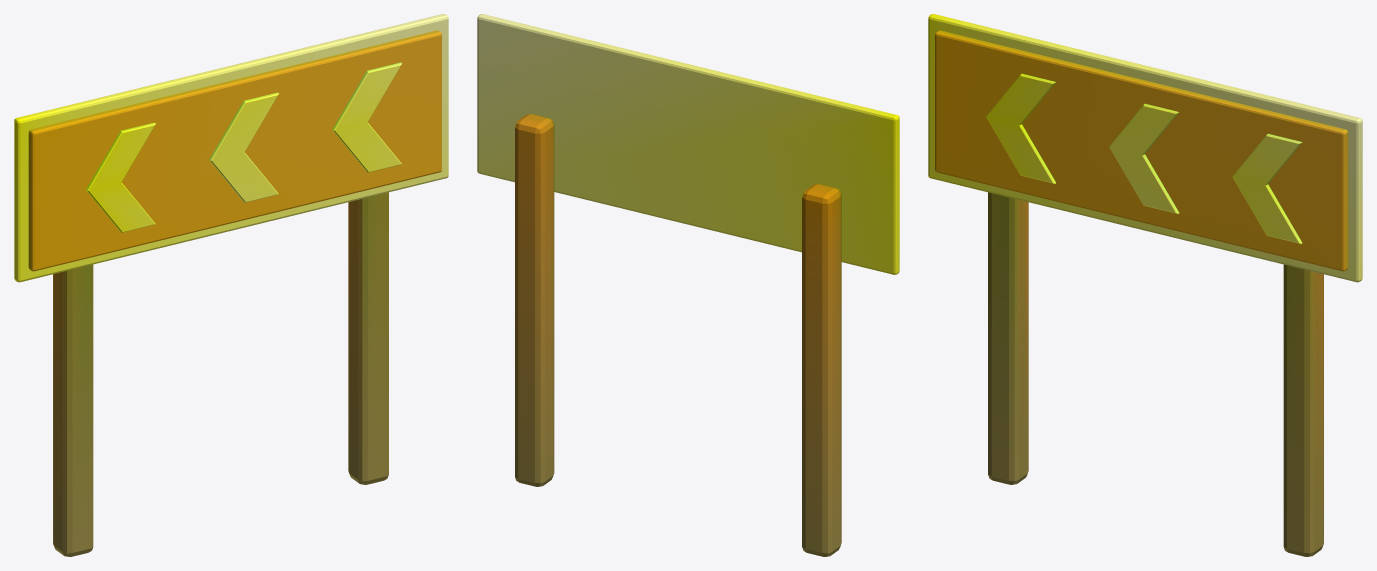
File: Sign_Chevron_01.fbx
3 views of the same model, side by side, from view 1: azimuth 30°, elevation 25°; view 2: azimuth 150°, elevation 25°; view 3: azimuth 330°, elevation 25° (orthographic). The views are drawn at different scales.
Visible parts, largest first — view 1: Sign_Chevron_01; view 2: Sign_Chevron_01; view 3: Sign_Chevron_01.
Part boxes in pixels (x1,y1,x2,y2): Sign_Chevron_01: (14,14,448,556); Sign_Chevron_01: (477,14,899,556); Sign_Chevron_01: (928,14,1362,556).
Size of the model in its own units: 2 by 2.02 by 0.215.
